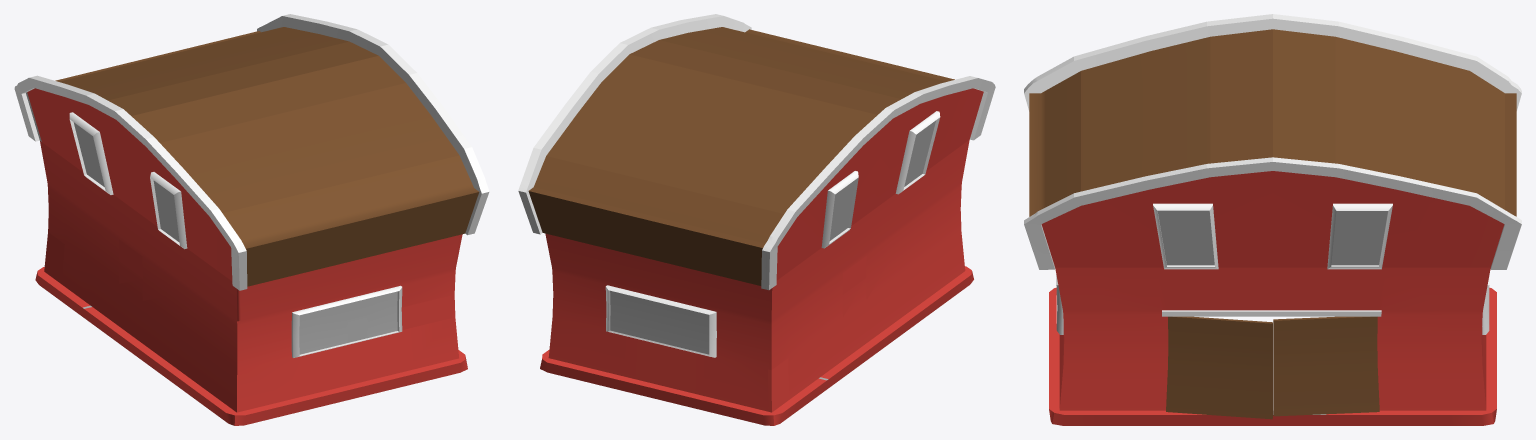
Rendered from Etable.fbx.
3 views of the same model, side by side, from view 1: azimuth 30°, elevation 25°; view 2: azimuth 150°, elevation 25°; view 3: azimuth 270°, elevation 25° (orthographic). The views are drawn at different scales.
Parts seen in each view (by area): view 1: pCube3; view 2: pCube3; view 3: pCube3.
Boxes of the visible parts, x1=… form: pCube3: x1=14, y1=14, x2=489, y2=425; pCube3: x1=518, y1=14, x2=995, y2=425; pCube3: x1=1024, y1=14, x2=1521, y2=425.
Bounding box in the file's own units: 479 × 415 × 682.
